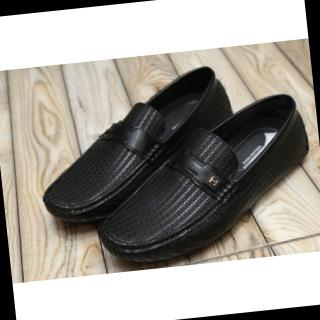loafers: (27, 45, 320, 278)
